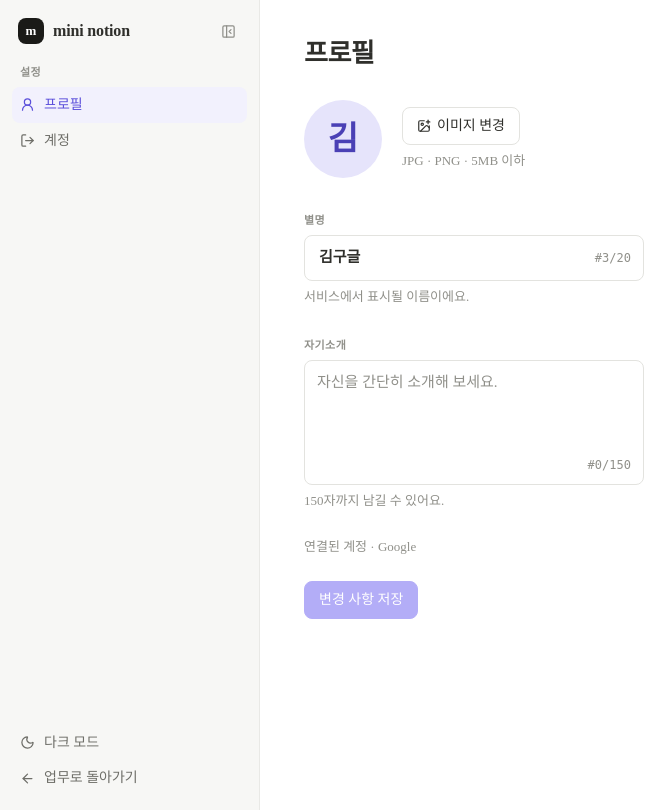
Test case: 길이 제한과 오류 상황 (US3) › 저장이 진행되는 동안 버튼은 진행 중 상태로 비활성화된다 (FR-013)
The image size is (664, 810).
Expected: the field named "별명" holds "김구글", [317,245,585,271]
Type "저장 중 확인" into the text box named "자기소개" at (474, 408), box [317,370,631,446]
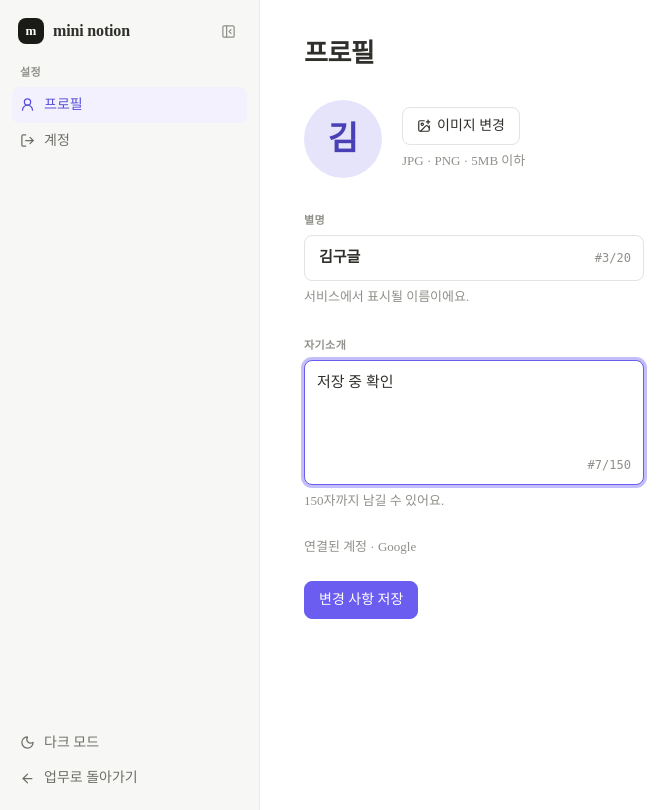
Click the button "변경 사항 저장" at (361, 600), box [304,581,418,619]
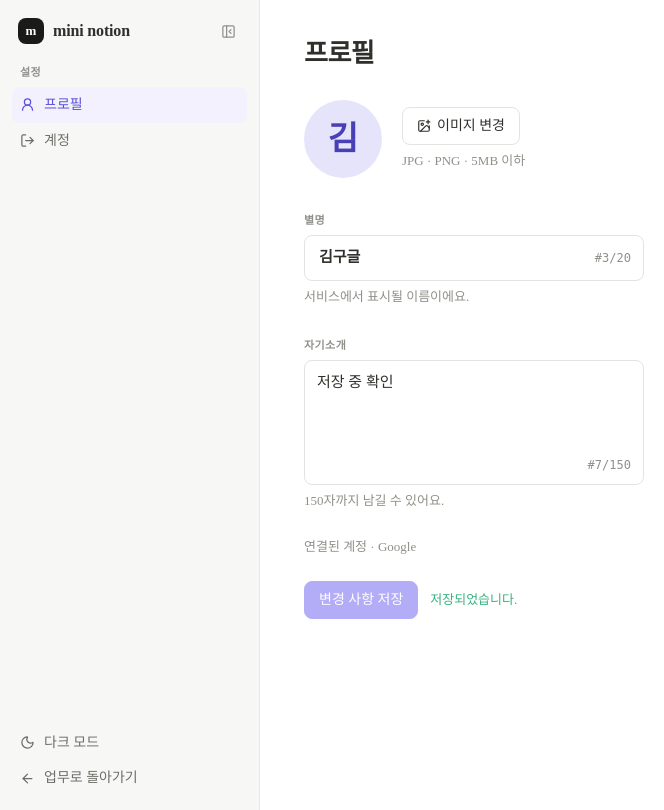
Expected: the button named "저장 중…" is disabled, [304,581,418,619]
Expected: the text "저장되었습니다." is shown, [430,590,517,610]
